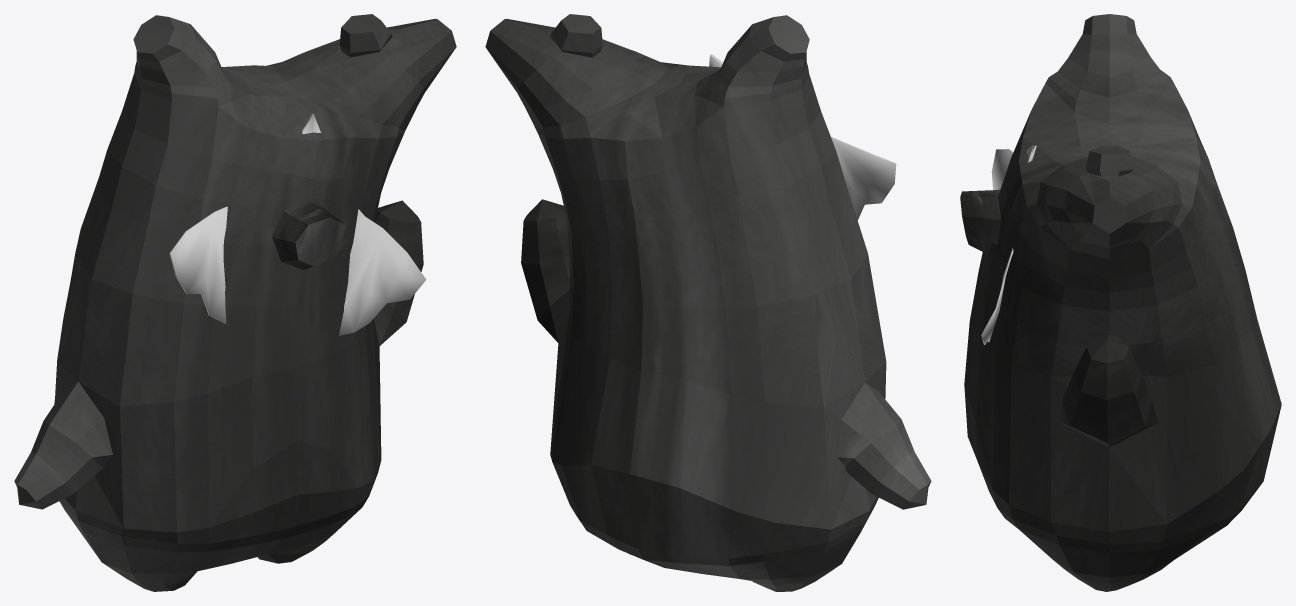
Rendered from frame_0058.obj.
3 views of the same model, side by side, from view 1: azimuth 30°, elevation 25°; view 2: azimuth 150°, elevation 25°; view 3: azimuth 270°, elevation 25° (orthographic). The views are drawn at different scales.
Parts seen in each view (by area): view 1: korok, leaf, nose; view 2: korok, leaf; view 3: korok, nose, leaf.
Boxes of the visible parts, bbox=[...] form: korok: bbox=[14, 14, 456, 591]; leaf: bbox=[169, 113, 426, 335]; nose: bbox=[272, 201, 346, 269]; korok: bbox=[485, 14, 931, 591]; leaf: bbox=[709, 53, 896, 220]; korok: bbox=[964, 14, 1281, 591]; nose: bbox=[960, 189, 1000, 255]; leaf: bbox=[981, 145, 1036, 344].
Bounding box in the file's own units: 1.71 × 2.13 × 1.18.
